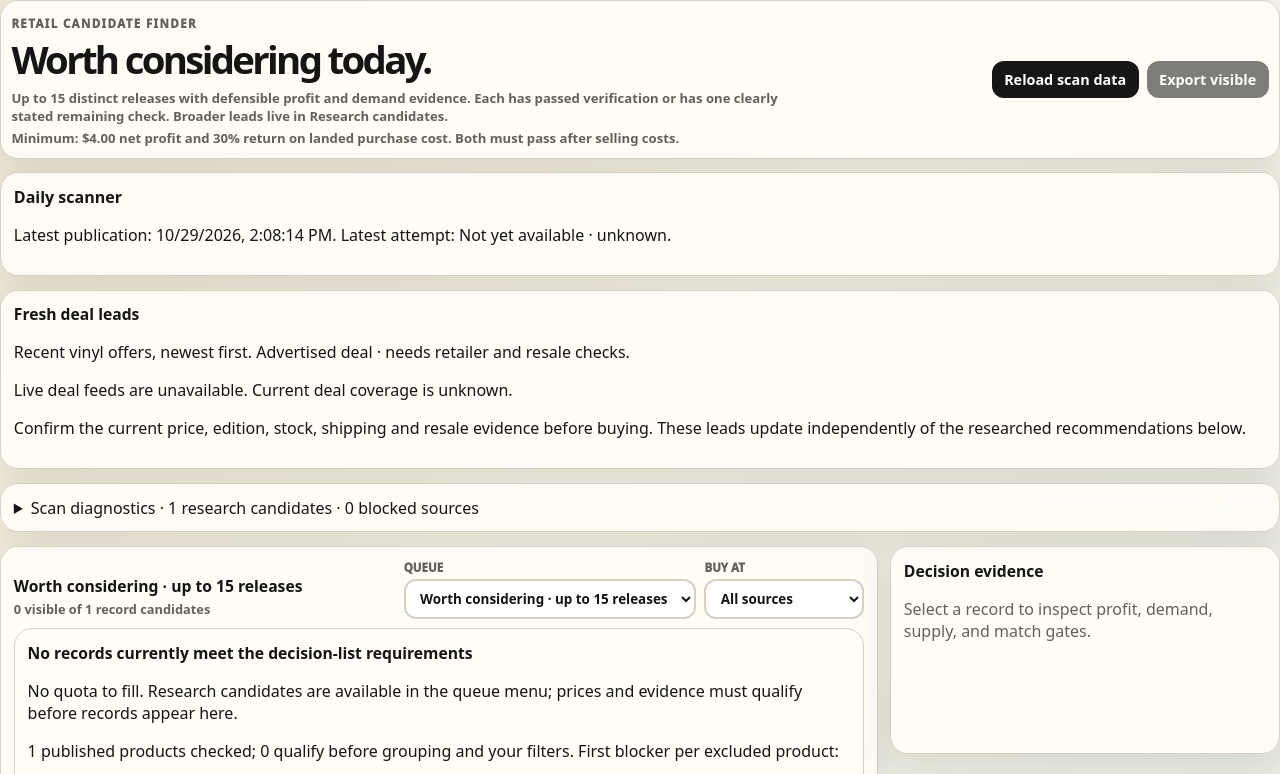
arbitrage pages › labels partial album captures and ten-copy samples without claiming total market volume
The width and height of the screenshot is (1280, 774).
Step 1. Select "Research candidates" in the dropdown labelled "Queue" → {"x": 550, "y": 599}, box x1=404 y1=579 x2=696 y2=619
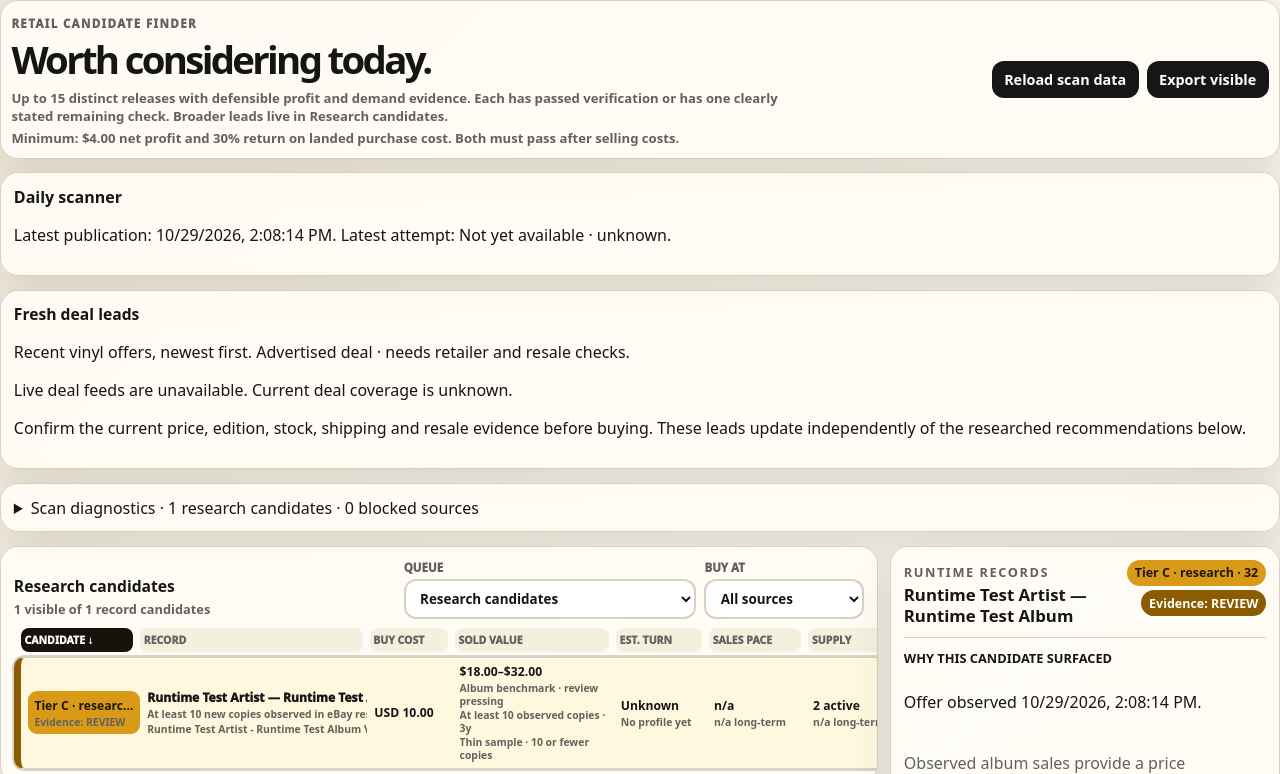
Result: the text "At least 10 observed copies" is shown at x1=460 y1=709 x2=614 y2=735
Result: the text "At least 10 new copies observed in eBay research" is shown at x1=147 y1=707 x2=367 y2=721
Result: the text "Thin sample · 10 or fewer copies" is shown at x1=460 y1=735 x2=589 y2=762
